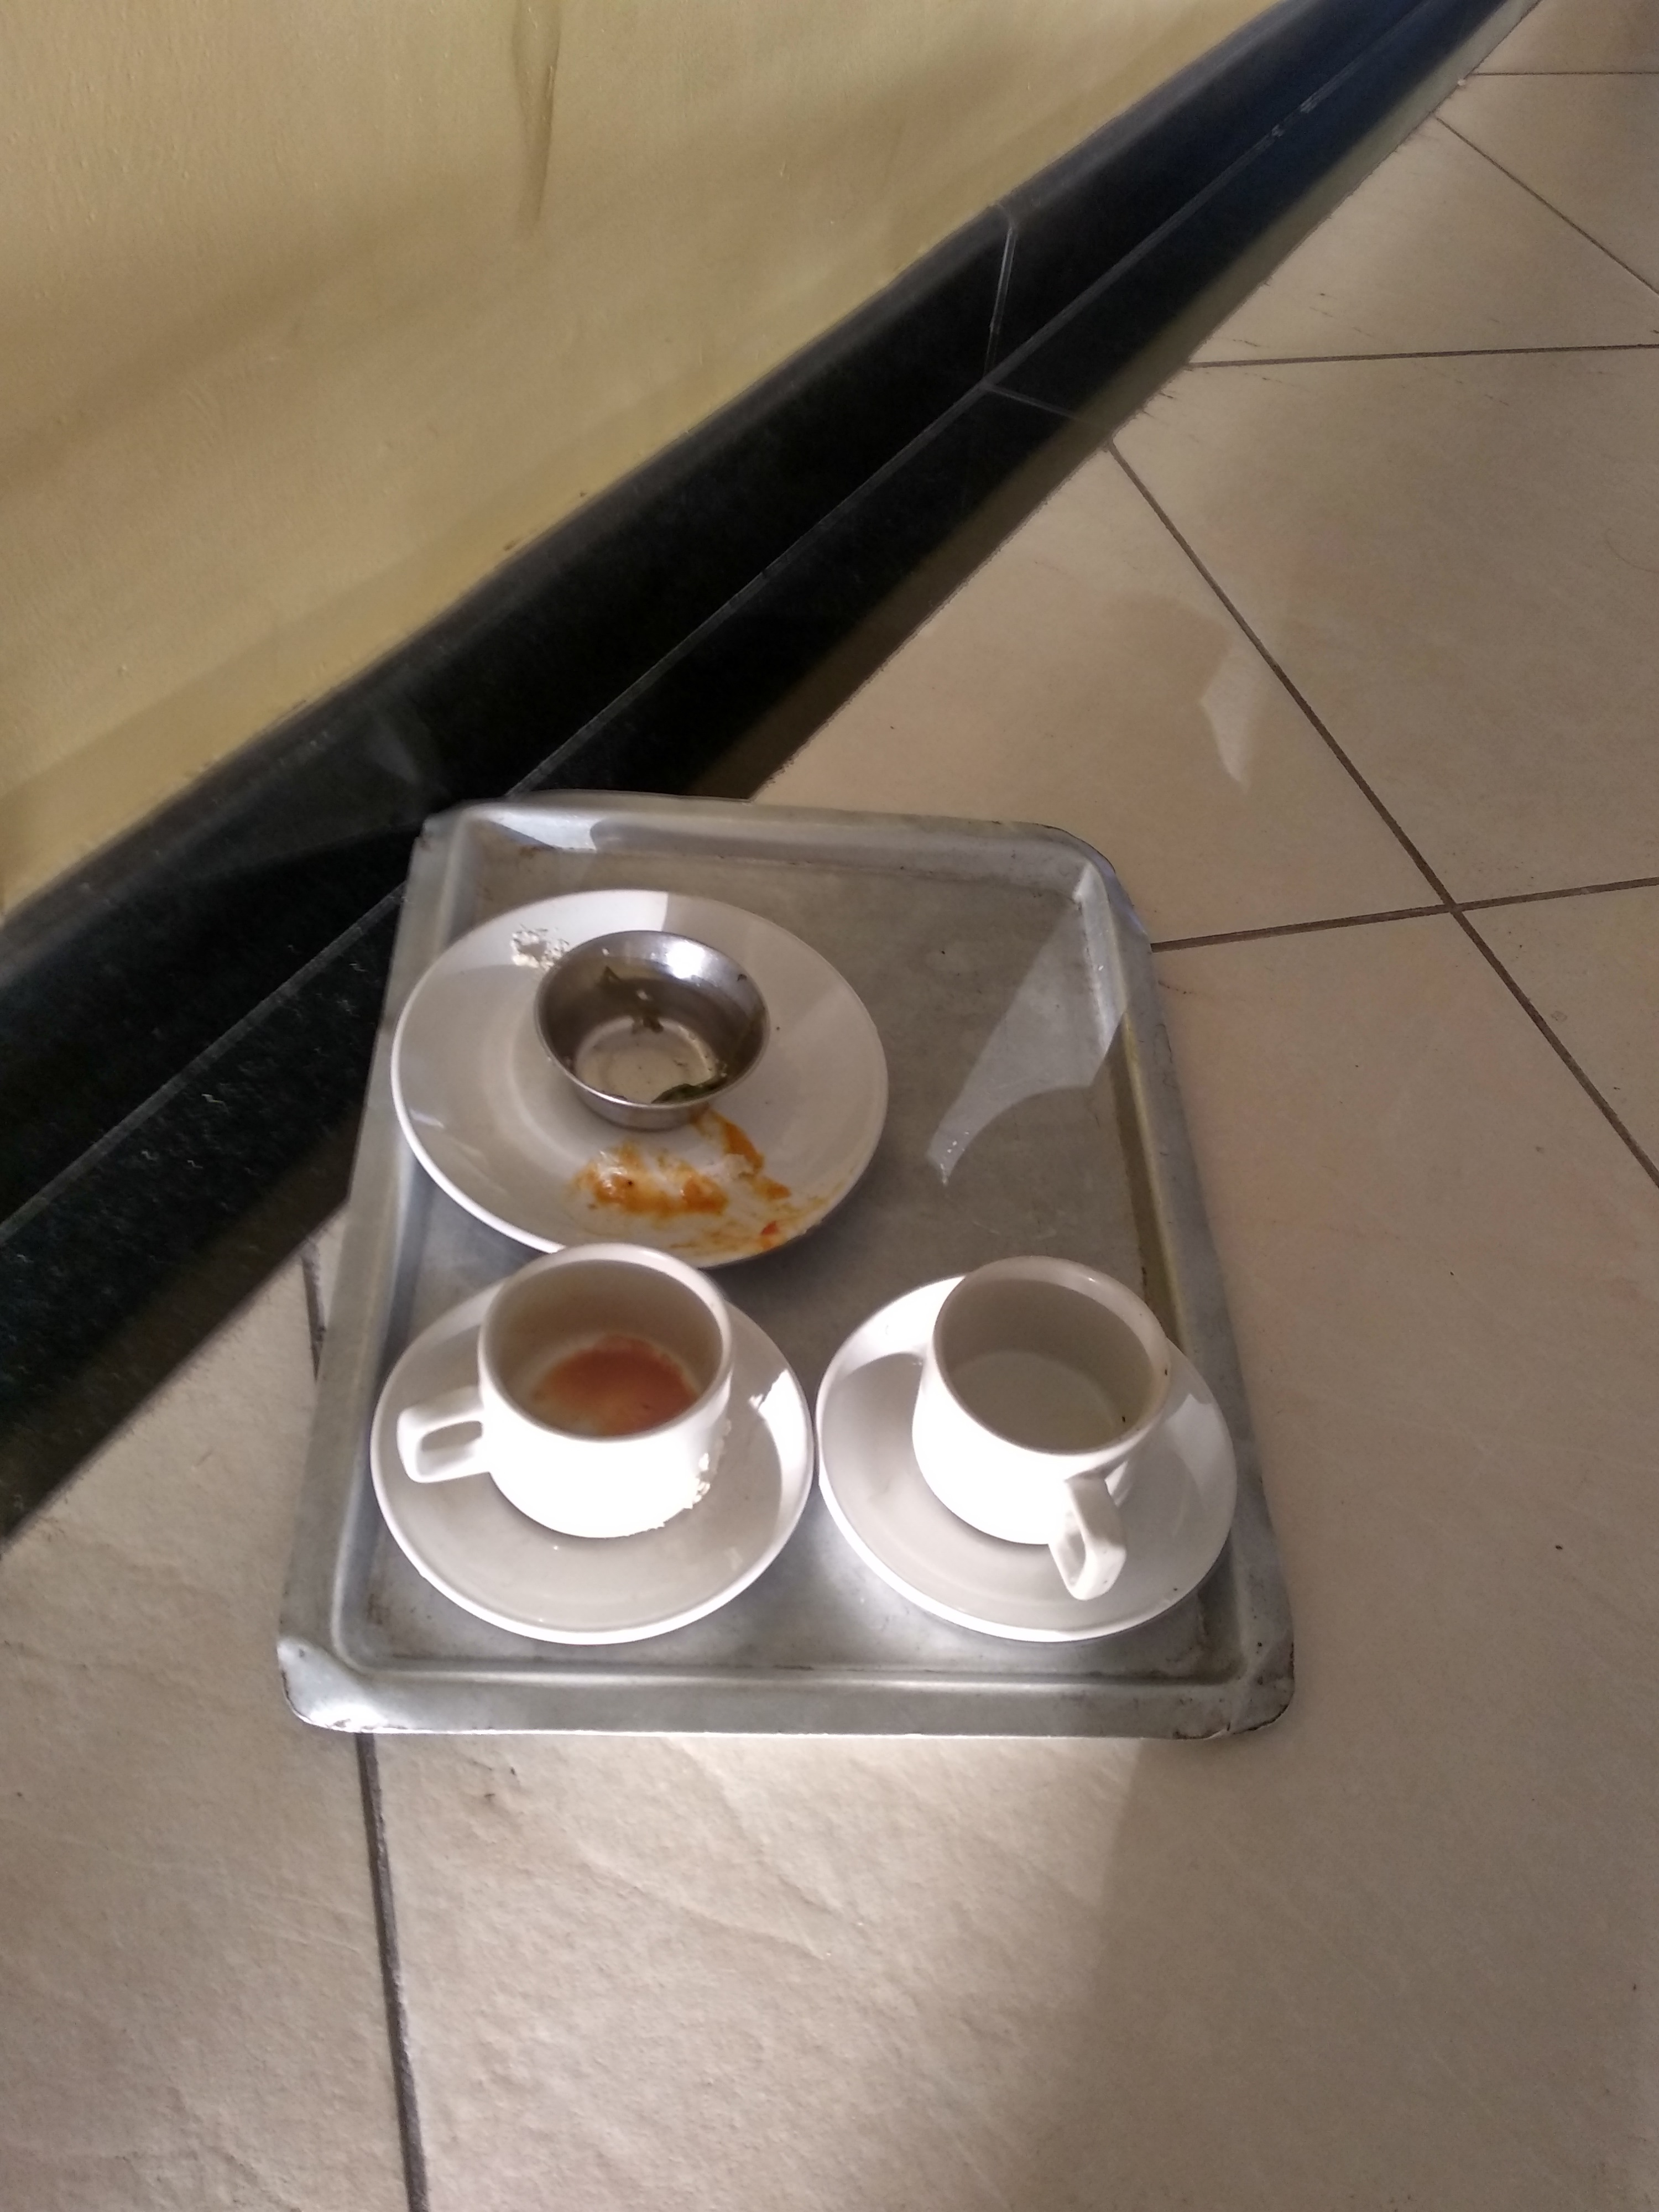CUP: (838, 1247, 1258, 1587), (422, 1226, 763, 1588), (530, 920, 791, 1136)
